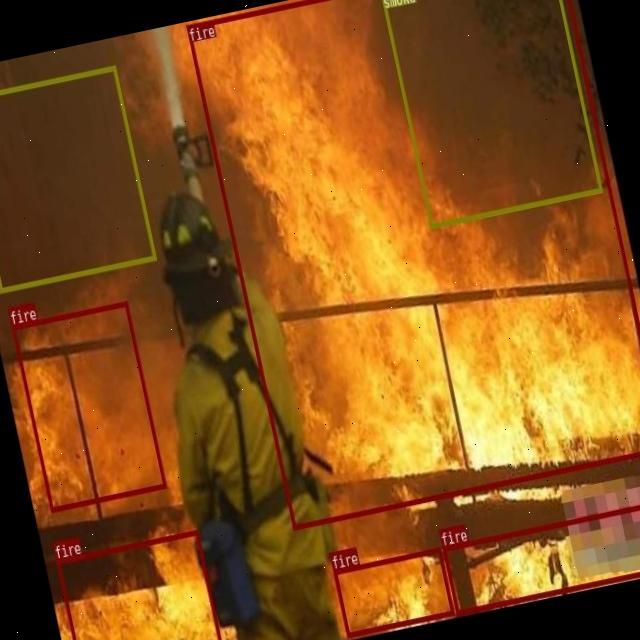fire: (185, 0, 640, 528), (12, 301, 166, 511), (441, 496, 640, 614), (56, 528, 225, 640), (333, 547, 454, 636)
smoke: (380, 0, 602, 227), (0, 64, 156, 292)
